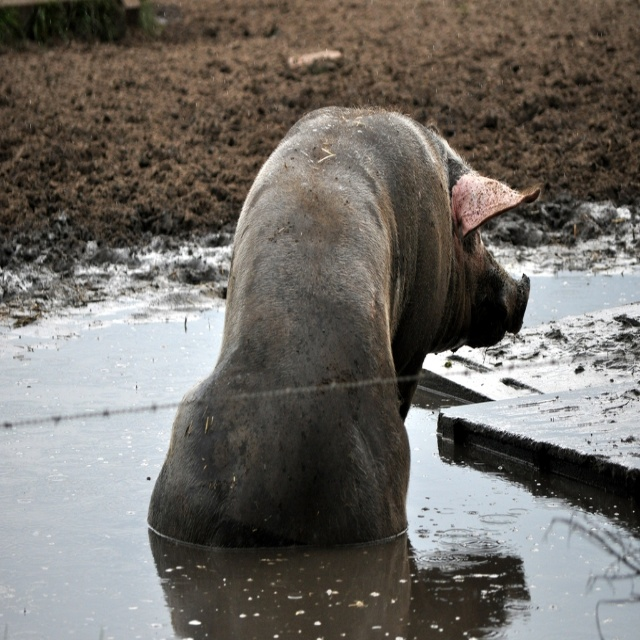Harbor seal: (146, 104, 545, 547)
